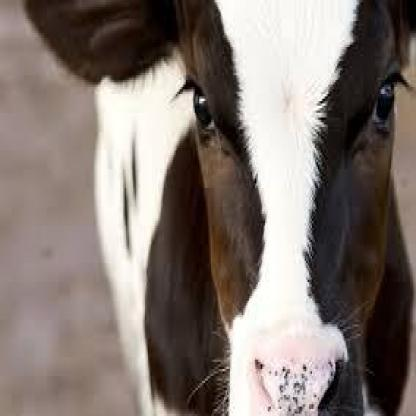cow: (25, 4, 416, 416)
